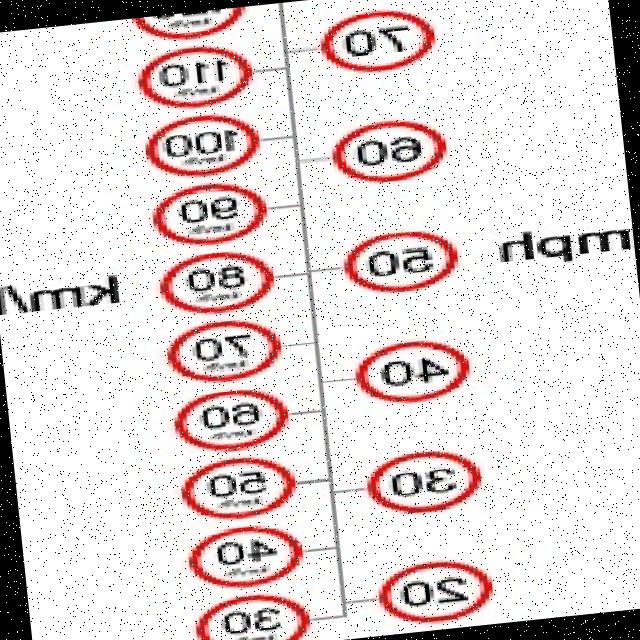speed_limit_100: (134, 106, 272, 186)
speed_limit_120: (123, 5, 256, 46)
speed_limit_30: (348, 440, 506, 530), (175, 583, 311, 640)
speed_limit_50: (318, 222, 488, 303), (172, 448, 308, 528)
speed_limit_60: (326, 109, 463, 196), (158, 382, 306, 456)
speed_limit_70: (309, 0, 462, 85), (158, 314, 291, 391)
speed_limit_80: (154, 244, 286, 324)
